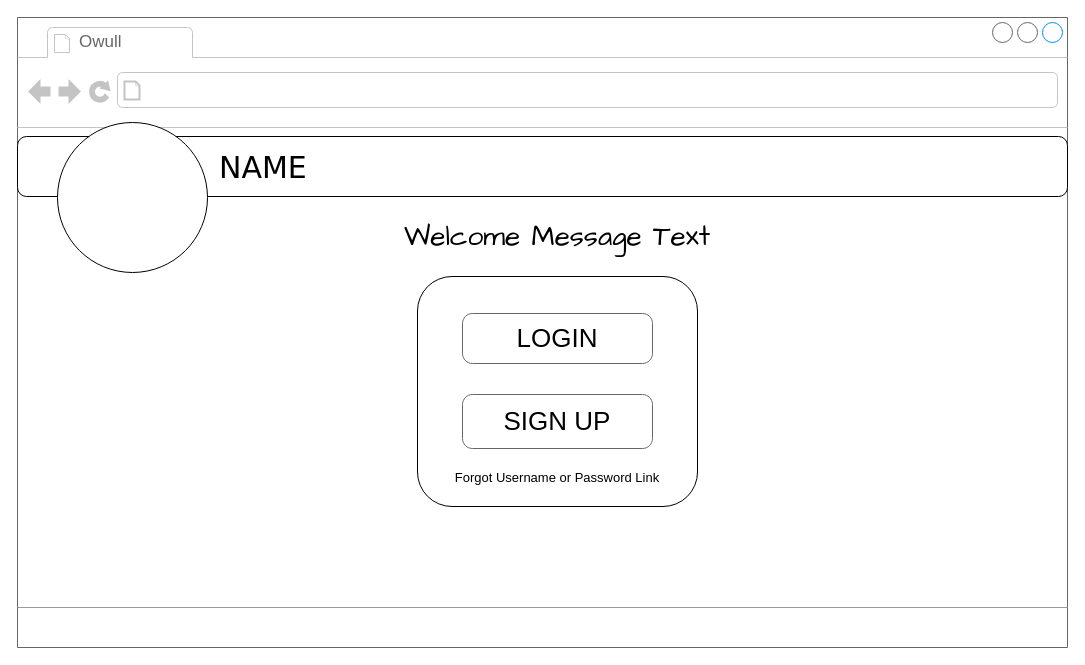
Some shapes in this 1085 by 665 pixel diagram are drawn without their labels. Each missing label, with the centre of its shape:
https://owull.com: the point at 272,90
Logo: the point at 132,197
